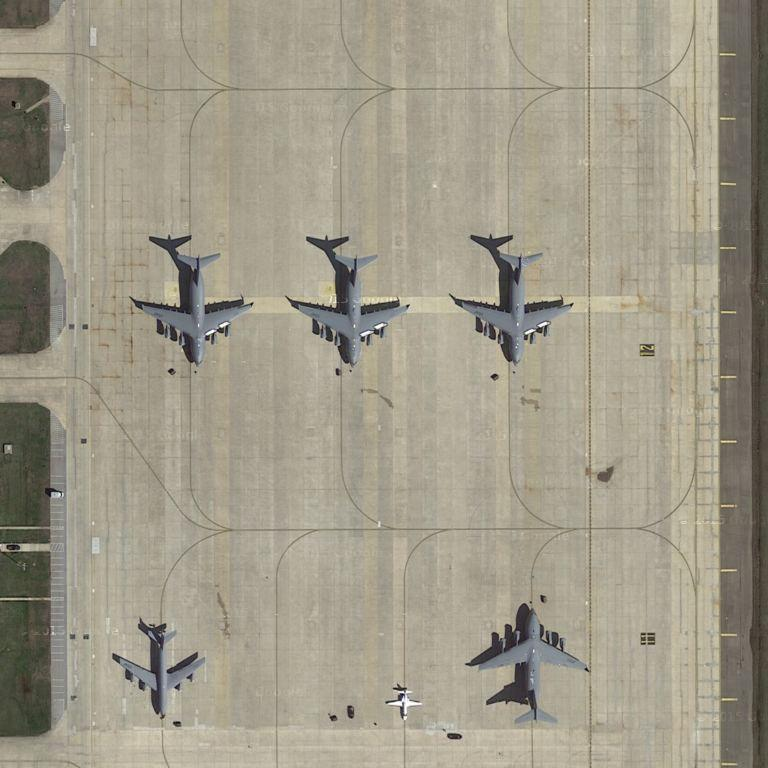C-17: (470, 601, 596, 732), (132, 246, 258, 374), (286, 248, 418, 370), (454, 243, 580, 368)
KC-135: (114, 622, 209, 721)
